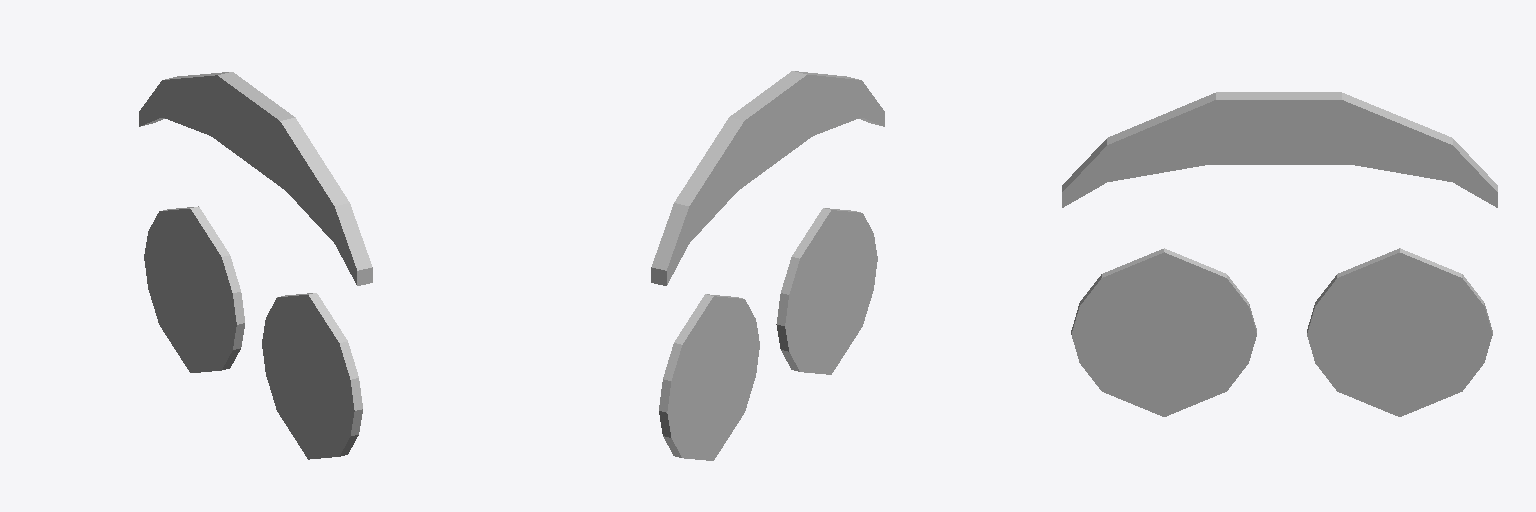
The model's file is Smile.obj.
3 views of the same model, side by side, from view 1: azimuth 30°, elevation 25°; view 2: azimuth 150°, elevation 25°; view 3: azimuth 270°, elevation 25° (orthographic).
Parts seen in each view (by area): view 1: Cube.001; view 2: Cube.001; view 3: Cube.001.
Boxes of the visible parts, x1=… form: Cube.001: x1=139, y1=72, x2=372, y2=459; Cube.001: x1=651, y1=71, x2=884, y2=460; Cube.001: x1=1062, y1=92, x2=1497, y2=416.
Size of the model in its own units: 0.282 by 5.64 by 6.97.